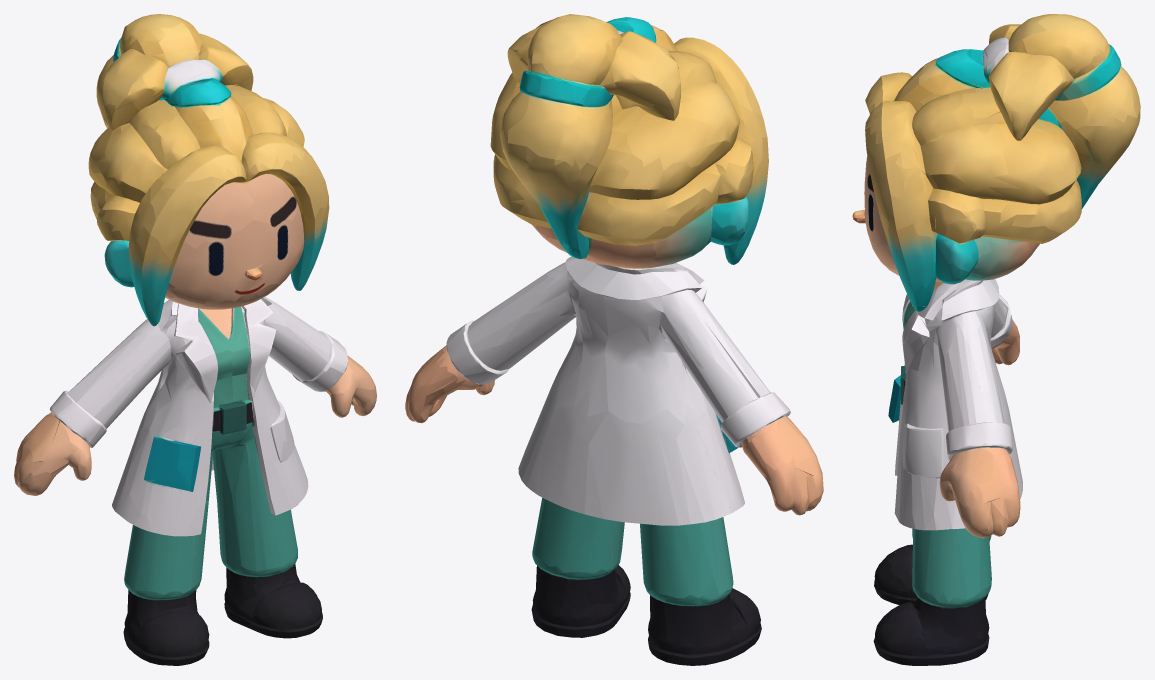
File: volta_reduziert_statisch.glb
3 views of the same model, side by side, from view 1: azimuth 30°, elevation 25°; view 2: azimuth 150°, elevation 25°; view 3: azimuth 270°, elevation 25° (orthographic). The views are drawn at different scales.
Parts seen in each view (by area): view 1: output_unwrapped; view 2: output_unwrapped; view 3: output_unwrapped.
Boxes of the visible parts, x1,y1,x2,y2 form: output_unwrapped: (14, 14, 376, 665); output_unwrapped: (405, 14, 823, 665); output_unwrapped: (852, 14, 1140, 665).
Size of the model in its own units: 1.24 by 1.9 by 0.8215.
Materials: 1 (1 with a texture image).
